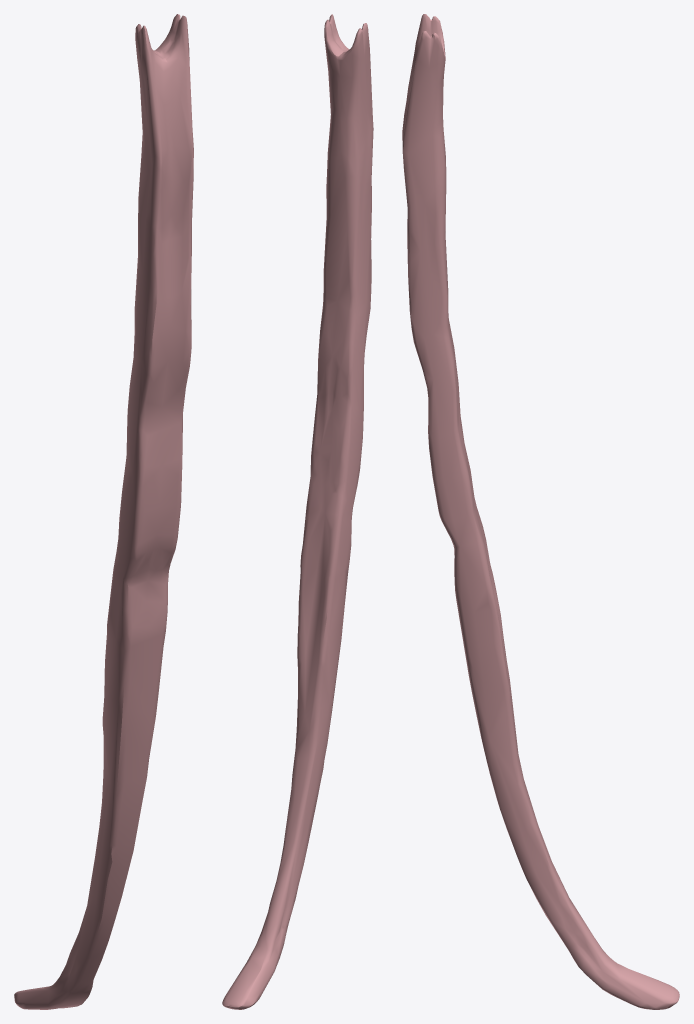
The model's file is fma11336_fj1448.glb.
The picture shows the model from 3 angles, left to right: view 1: azimuth 30°, elevation 25°; view 2: azimuth 150°, elevation 25°; view 3: azimuth 270°, elevation 25°; orthographic projection. The views are drawn at different scales.
Parts seen in each view (by area): view 1: FMA11336_FJ1448; view 2: FMA11336_FJ1448; view 3: FMA11336_FJ1448.
Part boxes in pixels (left/top/right/bottom): FMA11336_FJ1448: left=14, top=14, right=193, bottom=1009; FMA11336_FJ1448: left=222, top=14, right=373, bottom=1009; FMA11336_FJ1448: left=402, top=14, right=679, bottom=1009.
Size of the model in its own units: 0.0175 by 0.3898 by 0.0999.
